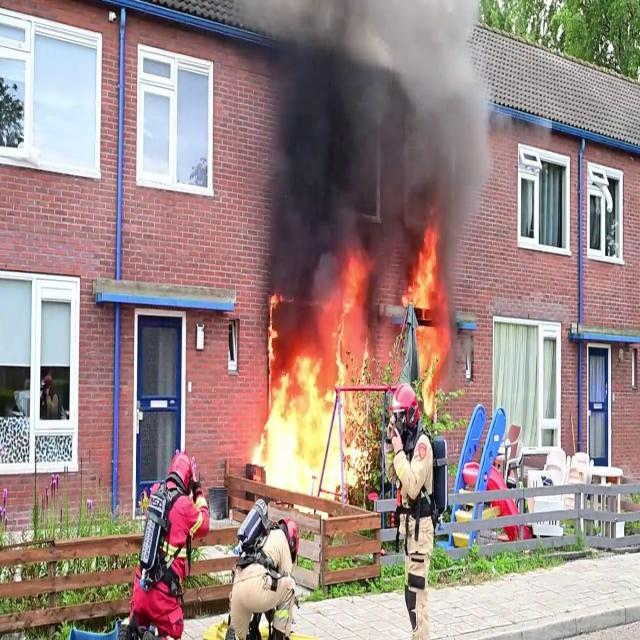Fire: (249, 262, 397, 500), (408, 230, 452, 413)
Smoke: (250, 0, 498, 286)
